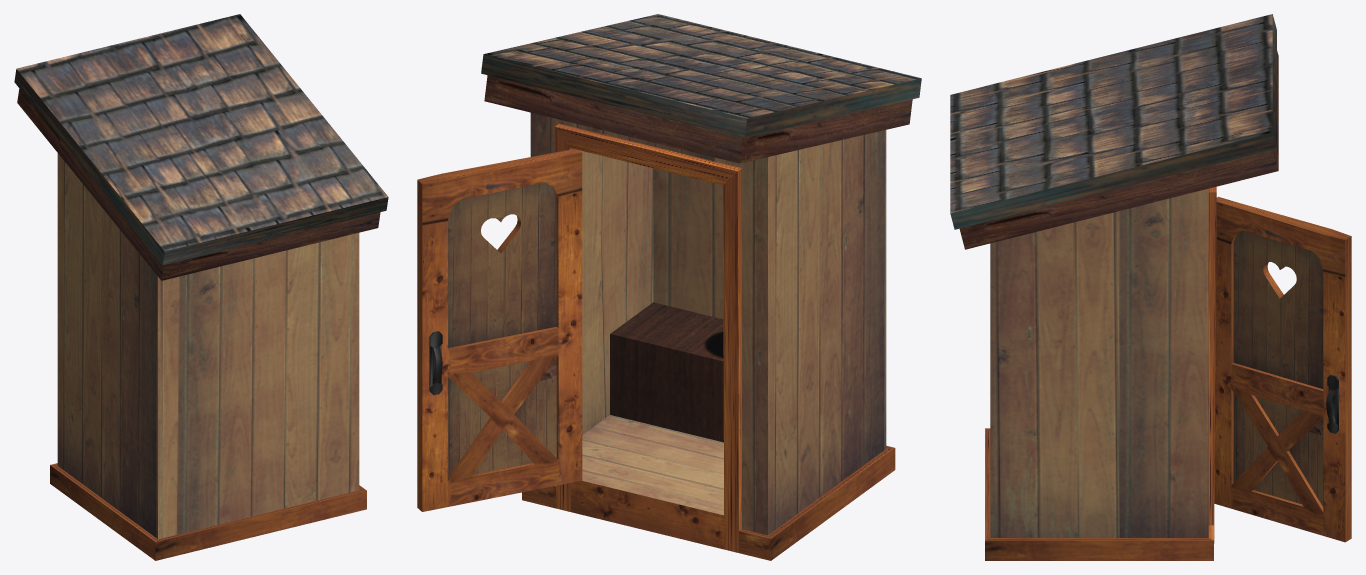
The model's file is Outhouse.fbx.
The picture shows the model from 3 angles, left to right: view 1: azimuth 30°, elevation 25°; view 2: azimuth 150°, elevation 25°; view 3: azimuth 270°, elevation 25°; orthographic projection. The views are drawn at different scales.
Visible parts, largest first — view 1: Outhouse; view 2: Outhouse; view 3: Outhouse.
Boxes of the visible parts, bbox=[...] form: Outhouse: bbox=[14, 14, 388, 560]; Outhouse: bbox=[417, 14, 921, 560]; Outhouse: bbox=[950, 14, 1351, 560].
Size of the model in its own units: 4.92 by 7.49 by 6.31.
